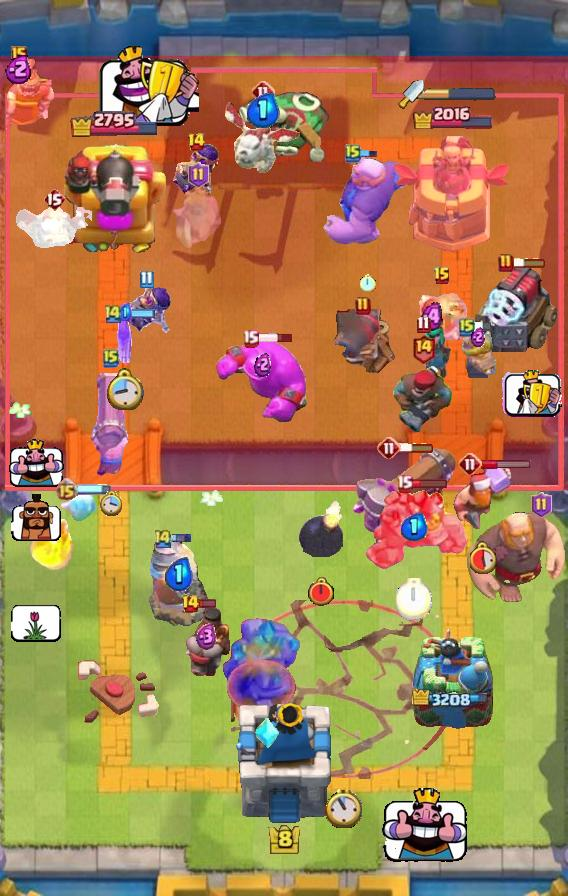baby-dragon: (298, 499, 344, 558)
balloon: (462, 508, 568, 606), (321, 155, 415, 247)
bar: (391, 132, 515, 256)
bat: (60, 491, 98, 525)
battle-healer: (88, 373, 134, 477)
cannoneer-tower: (361, 487, 467, 571), (219, 617, 309, 707)
clone: (214, 338, 310, 424)
earthquake: (0, 59, 54, 129)
electro-spirit: (248, 93, 281, 127), (163, 557, 192, 591), (5, 53, 33, 84), (400, 513, 427, 541), (421, 302, 443, 332), (195, 623, 217, 651), (254, 351, 271, 377), (471, 325, 485, 347), (120, 303, 132, 321)
elite-barbarian: (180, 604, 232, 678)
elixir: (106, 368, 144, 410), (396, 578, 432, 620), (326, 788, 363, 828), (470, 542, 498, 574), (307, 577, 335, 607), (100, 491, 123, 517), (360, 274, 376, 292)
emote: (480, 458, 532, 469), (257, 332, 294, 344), (511, 257, 547, 269), (399, 442, 435, 454), (75, 484, 111, 496), (411, 479, 448, 490), (121, 308, 156, 319), (170, 532, 192, 543), (358, 148, 377, 160), (473, 320, 492, 331), (198, 598, 217, 609)
furnace: (351, 444, 459, 554)
goblin: (115, 316, 135, 366)
goblin-ball: (171, 143, 221, 197), (119, 285, 173, 335)
goblin-giant: (460, 332, 496, 379)
golem: (473, 262, 559, 352)
guard: (231, 600, 455, 779)
king-tower: (235, 703, 333, 826)
king-tower-bar: (424, 87, 496, 101)
magic-archer: (148, 535, 208, 627)
mighty-miner: (452, 461, 516, 531)
mini-pekka: (223, 101, 303, 175), (16, 204, 92, 252)
mortar-evolution: (170, 185, 226, 251)
pad_2: (254, 717, 280, 749)
phoenix-small: (390, 364, 456, 434)
queen-tower: (411, 627, 495, 731)
royal-giant-evolution: (329, 309, 397, 379)
selected: (68, 109, 159, 137), (413, 103, 496, 129), (412, 689, 494, 711)
skeleton: (97, 45, 198, 126), (382, 787, 468, 865), (502, 370, 563, 418), (8, 439, 63, 489), (10, 493, 61, 543), (11, 604, 61, 642)
skeleton-dragon: (415, 291, 469, 345)
text: (412, 333, 437, 364), (251, 80, 275, 104), (377, 436, 401, 460), (458, 452, 482, 476), (54, 478, 77, 502), (188, 162, 209, 188), (531, 492, 552, 518), (43, 187, 65, 211), (103, 303, 123, 324), (153, 527, 173, 548), (180, 594, 200, 614), (186, 132, 205, 152), (433, 266, 451, 286), (241, 329, 259, 347), (396, 475, 413, 494), (345, 143, 361, 163), (498, 253, 514, 273), (355, 296, 371, 316), (459, 317, 475, 337), (103, 348, 119, 368), (11, 46, 27, 64), (138, 271, 153, 289), (417, 315, 431, 333)
tower-bar: (60, 138, 168, 256)
valkyrie: (28, 507, 78, 573)
witch: (412, 325, 452, 379)
